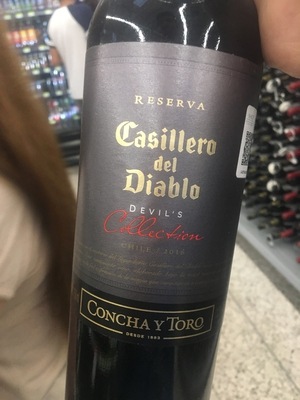casillero del diablo devils collection rojo: (59, 5, 262, 400)
